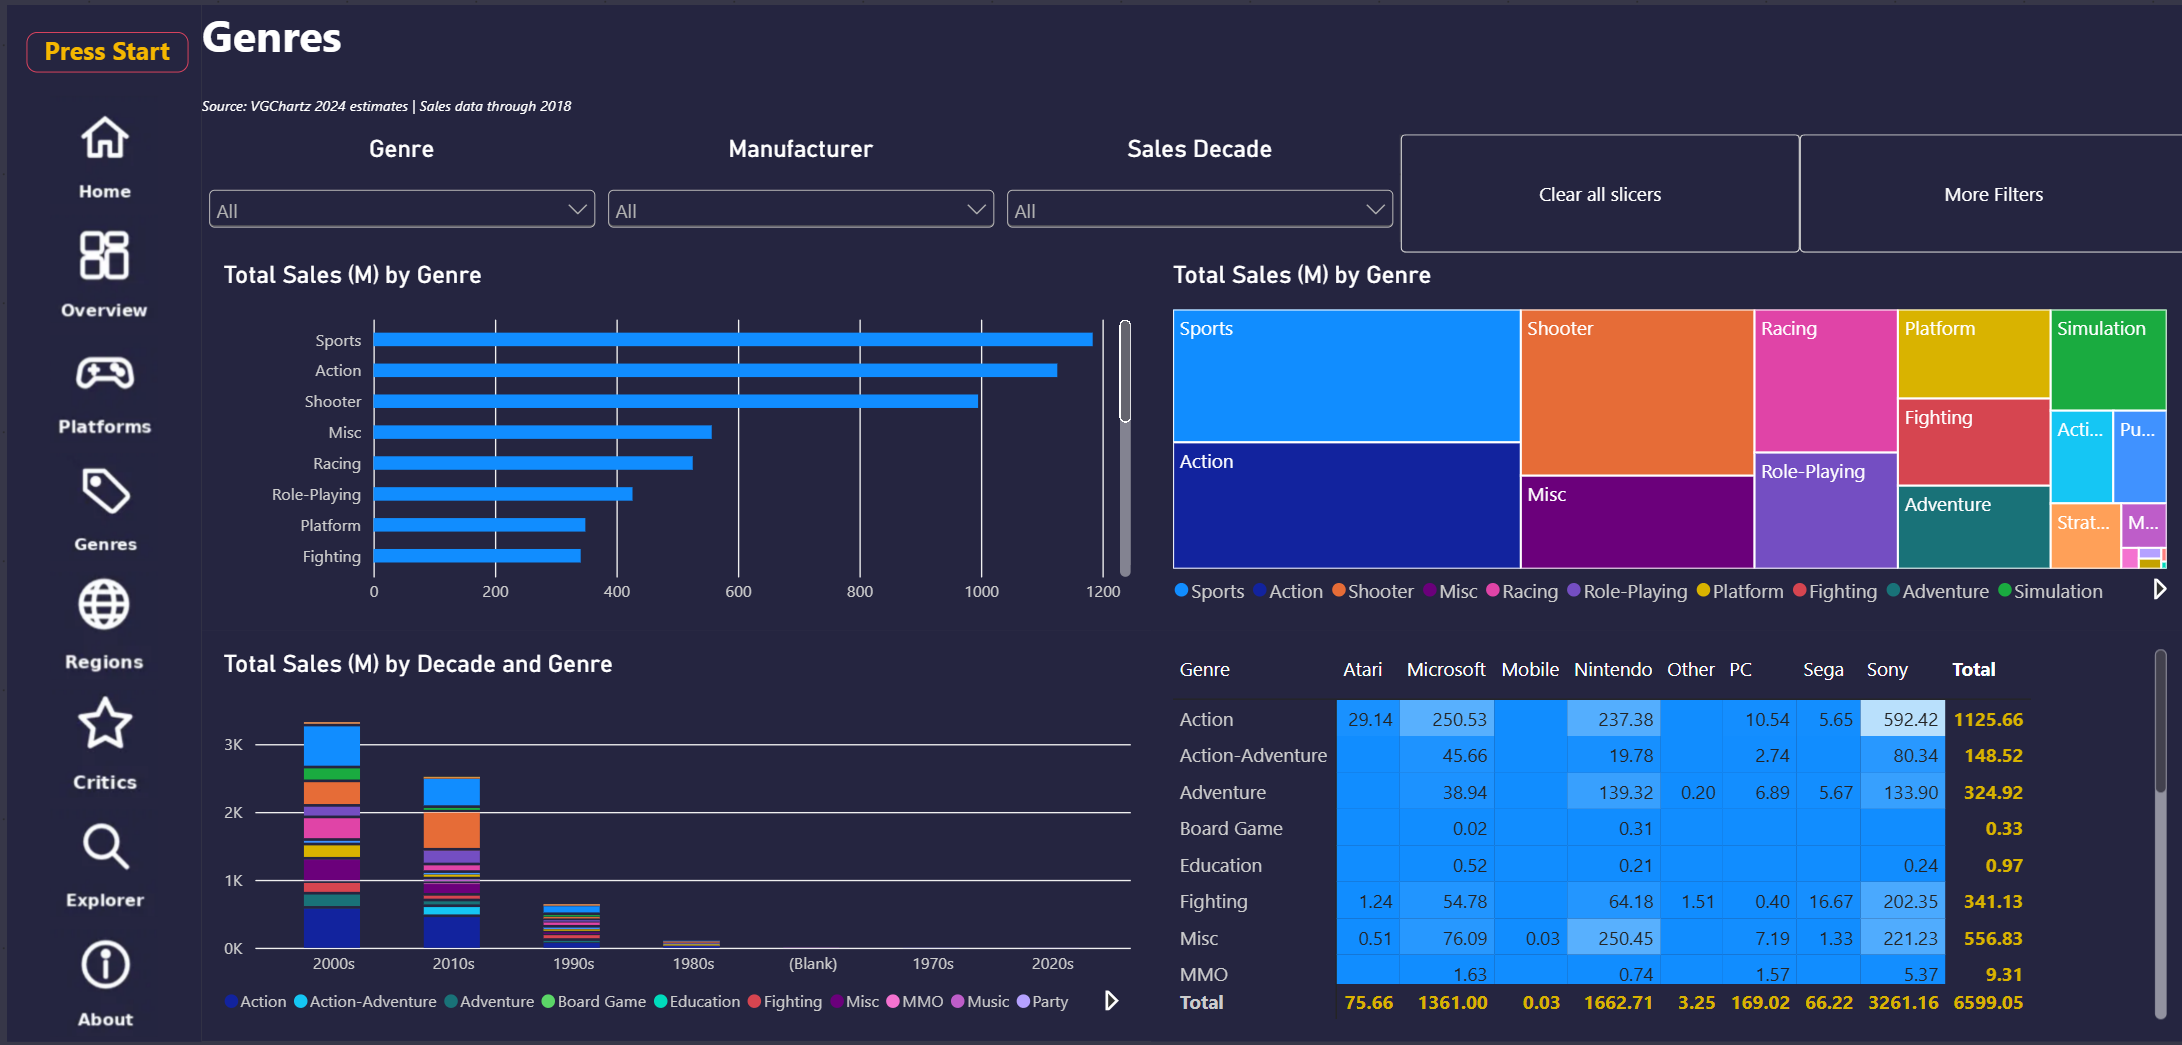

This screenshot's page, from the dashboard's own definition file:
{"tool":"powerbi","page":{"name":"Genres","canvas":[1920,1080],"ordinal":3},"visuals":[{"type":"shape","box":[35.6,66.3,144,768],"z":0},{"type":"textbox","box":[49.6,86.3,120,30],"z":1000},{"type":"textbox","box":[179.6,130.3,1472,32],"z":1000,"group":"g1"},{"type":"textbox","box":[179.6,66.3,1472,64],"z":2000},{"type":"barChart","fields":{"Category":["Games.Genre"],"Y":["Games.Total Sales (M)"]},"box":[179.6,242.3,704,288],"z":3000},{"type":"treemap","fields":{"Group":["Games.Genre"],"Values":["Games.Total Sales (M)"]},"box":[883.6,242.3,768,288],"z":4000},{"type":"columnChart","fields":{"Category":["Games.sales_decade"],"Series":["Games.Genre"],"Y":["Games.Total Sales (M)"]},"box":[179.6,530.3,704,304],"z":5000},{"type":"pivotTable","fields":{"Columns":["Console_Map.Manufacturer"],"Rows":["Games.Genre"],"Values":["Games.Total Sales (M)"]},"box":[883.6,530.3,768,304],"z":6000},{"type":"actionButton","box":[35.6,130.3,144,88],"z":8000},{"type":"actionButton","box":[35.6,306.3,144,88],"z":9000},{"type":"actionButton","box":[35.6,218.3,144,88],"z":10000},{"type":"actionButton","box":[35.6,394.3,144,88],"z":11000},{"type":"actionButton","box":[35.6,482.3,144,88],"z":12000},{"type":"actionButton","box":[35.6,570.3,144,88],"z":13000},{"type":"actionButton","box":[35.6,658.3,144,88],"z":14000},{"type":"actionButton","box":[35.6,746.3,144,88],"z":15000},{"type":"slicer","title":"Genre","fields":{"Values":["Games.Genre"]},"box":[179.6,162.3,296,88],"z":16000},{"type":"slicer","title":"Manufacturer","fields":{"Values":["Console_Map.Manufacturer"]},"box":[475.6,162.3,296,88],"z":17000},{"type":"slicer","title":"Sales Decade","fields":{"Values":["Games.sales_decade"]},"box":[771.6,162.3,296,88],"z":18000},{"type":"actionButton","box":[1067.6,162.3,296,88],"z":19000},{"type":"actionButton","box":[1363.6,162.3,288,88],"z":20000},{"type":"group","id":"g1","title":"Group 1","box":[179.6,130.3,1472,32],"z":21000}]}

Visuals, with their boxes on the page's 1920x1080 design canvas (x1, y1, x2, y2). These are canvas units, not pixel positions in the 2182x1045 screenshot, which may show the page scaled, cropped or inside an application window:
shape: {"left": 36, "top": 66, "right": 180, "bottom": 834}
textbox: {"left": 50, "top": 86, "right": 170, "bottom": 116}
textbox: {"left": 180, "top": 130, "right": 1652, "bottom": 162}
textbox: {"left": 180, "top": 66, "right": 1652, "bottom": 130}
barChart - Games.Genre x Games.Total Sales (M): {"left": 180, "top": 242, "right": 884, "bottom": 530}
treemap - Games.Genre x Games.Total Sales (M): {"left": 884, "top": 242, "right": 1652, "bottom": 530}
columnChart - Games.sales_decade x Games.Genre: {"left": 180, "top": 530, "right": 884, "bottom": 834}
pivotTable - Console_Map.Manufacturer x Games.Genre: {"left": 884, "top": 530, "right": 1652, "bottom": 834}
actionButton: {"left": 36, "top": 130, "right": 180, "bottom": 218}
actionButton: {"left": 36, "top": 306, "right": 180, "bottom": 394}
actionButton: {"left": 36, "top": 218, "right": 180, "bottom": 306}
actionButton: {"left": 36, "top": 394, "right": 180, "bottom": 482}
actionButton: {"left": 36, "top": 482, "right": 180, "bottom": 570}
actionButton: {"left": 36, "top": 570, "right": 180, "bottom": 658}
actionButton: {"left": 36, "top": 658, "right": 180, "bottom": 746}
actionButton: {"left": 36, "top": 746, "right": 180, "bottom": 834}
"Genre" slicer: {"left": 180, "top": 162, "right": 476, "bottom": 250}
"Manufacturer" slicer: {"left": 476, "top": 162, "right": 772, "bottom": 250}
"Sales Decade" slicer: {"left": 772, "top": 162, "right": 1068, "bottom": 250}
actionButton: {"left": 1068, "top": 162, "right": 1364, "bottom": 250}
actionButton: {"left": 1364, "top": 162, "right": 1652, "bottom": 250}
"Group 1" group: {"left": 180, "top": 130, "right": 1652, "bottom": 162}
